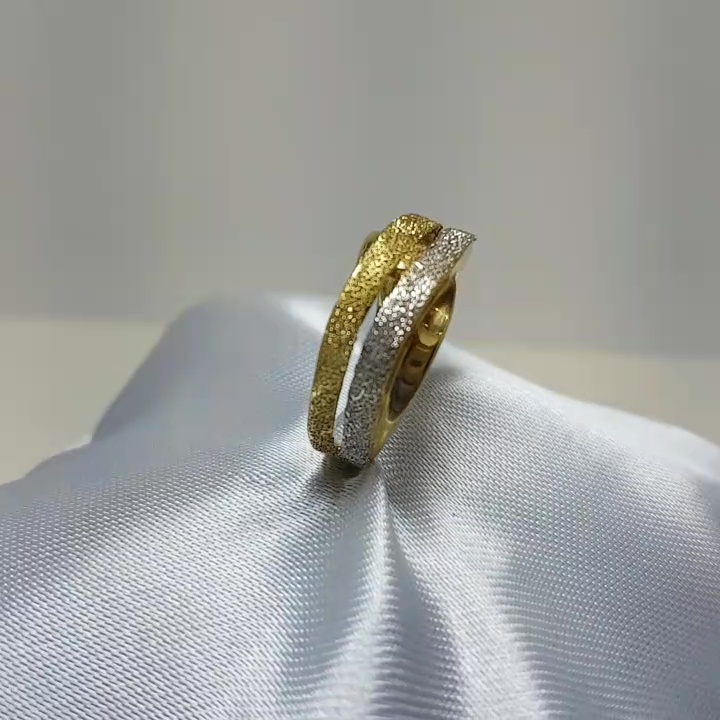Ring 5: (273, 192, 511, 498)
